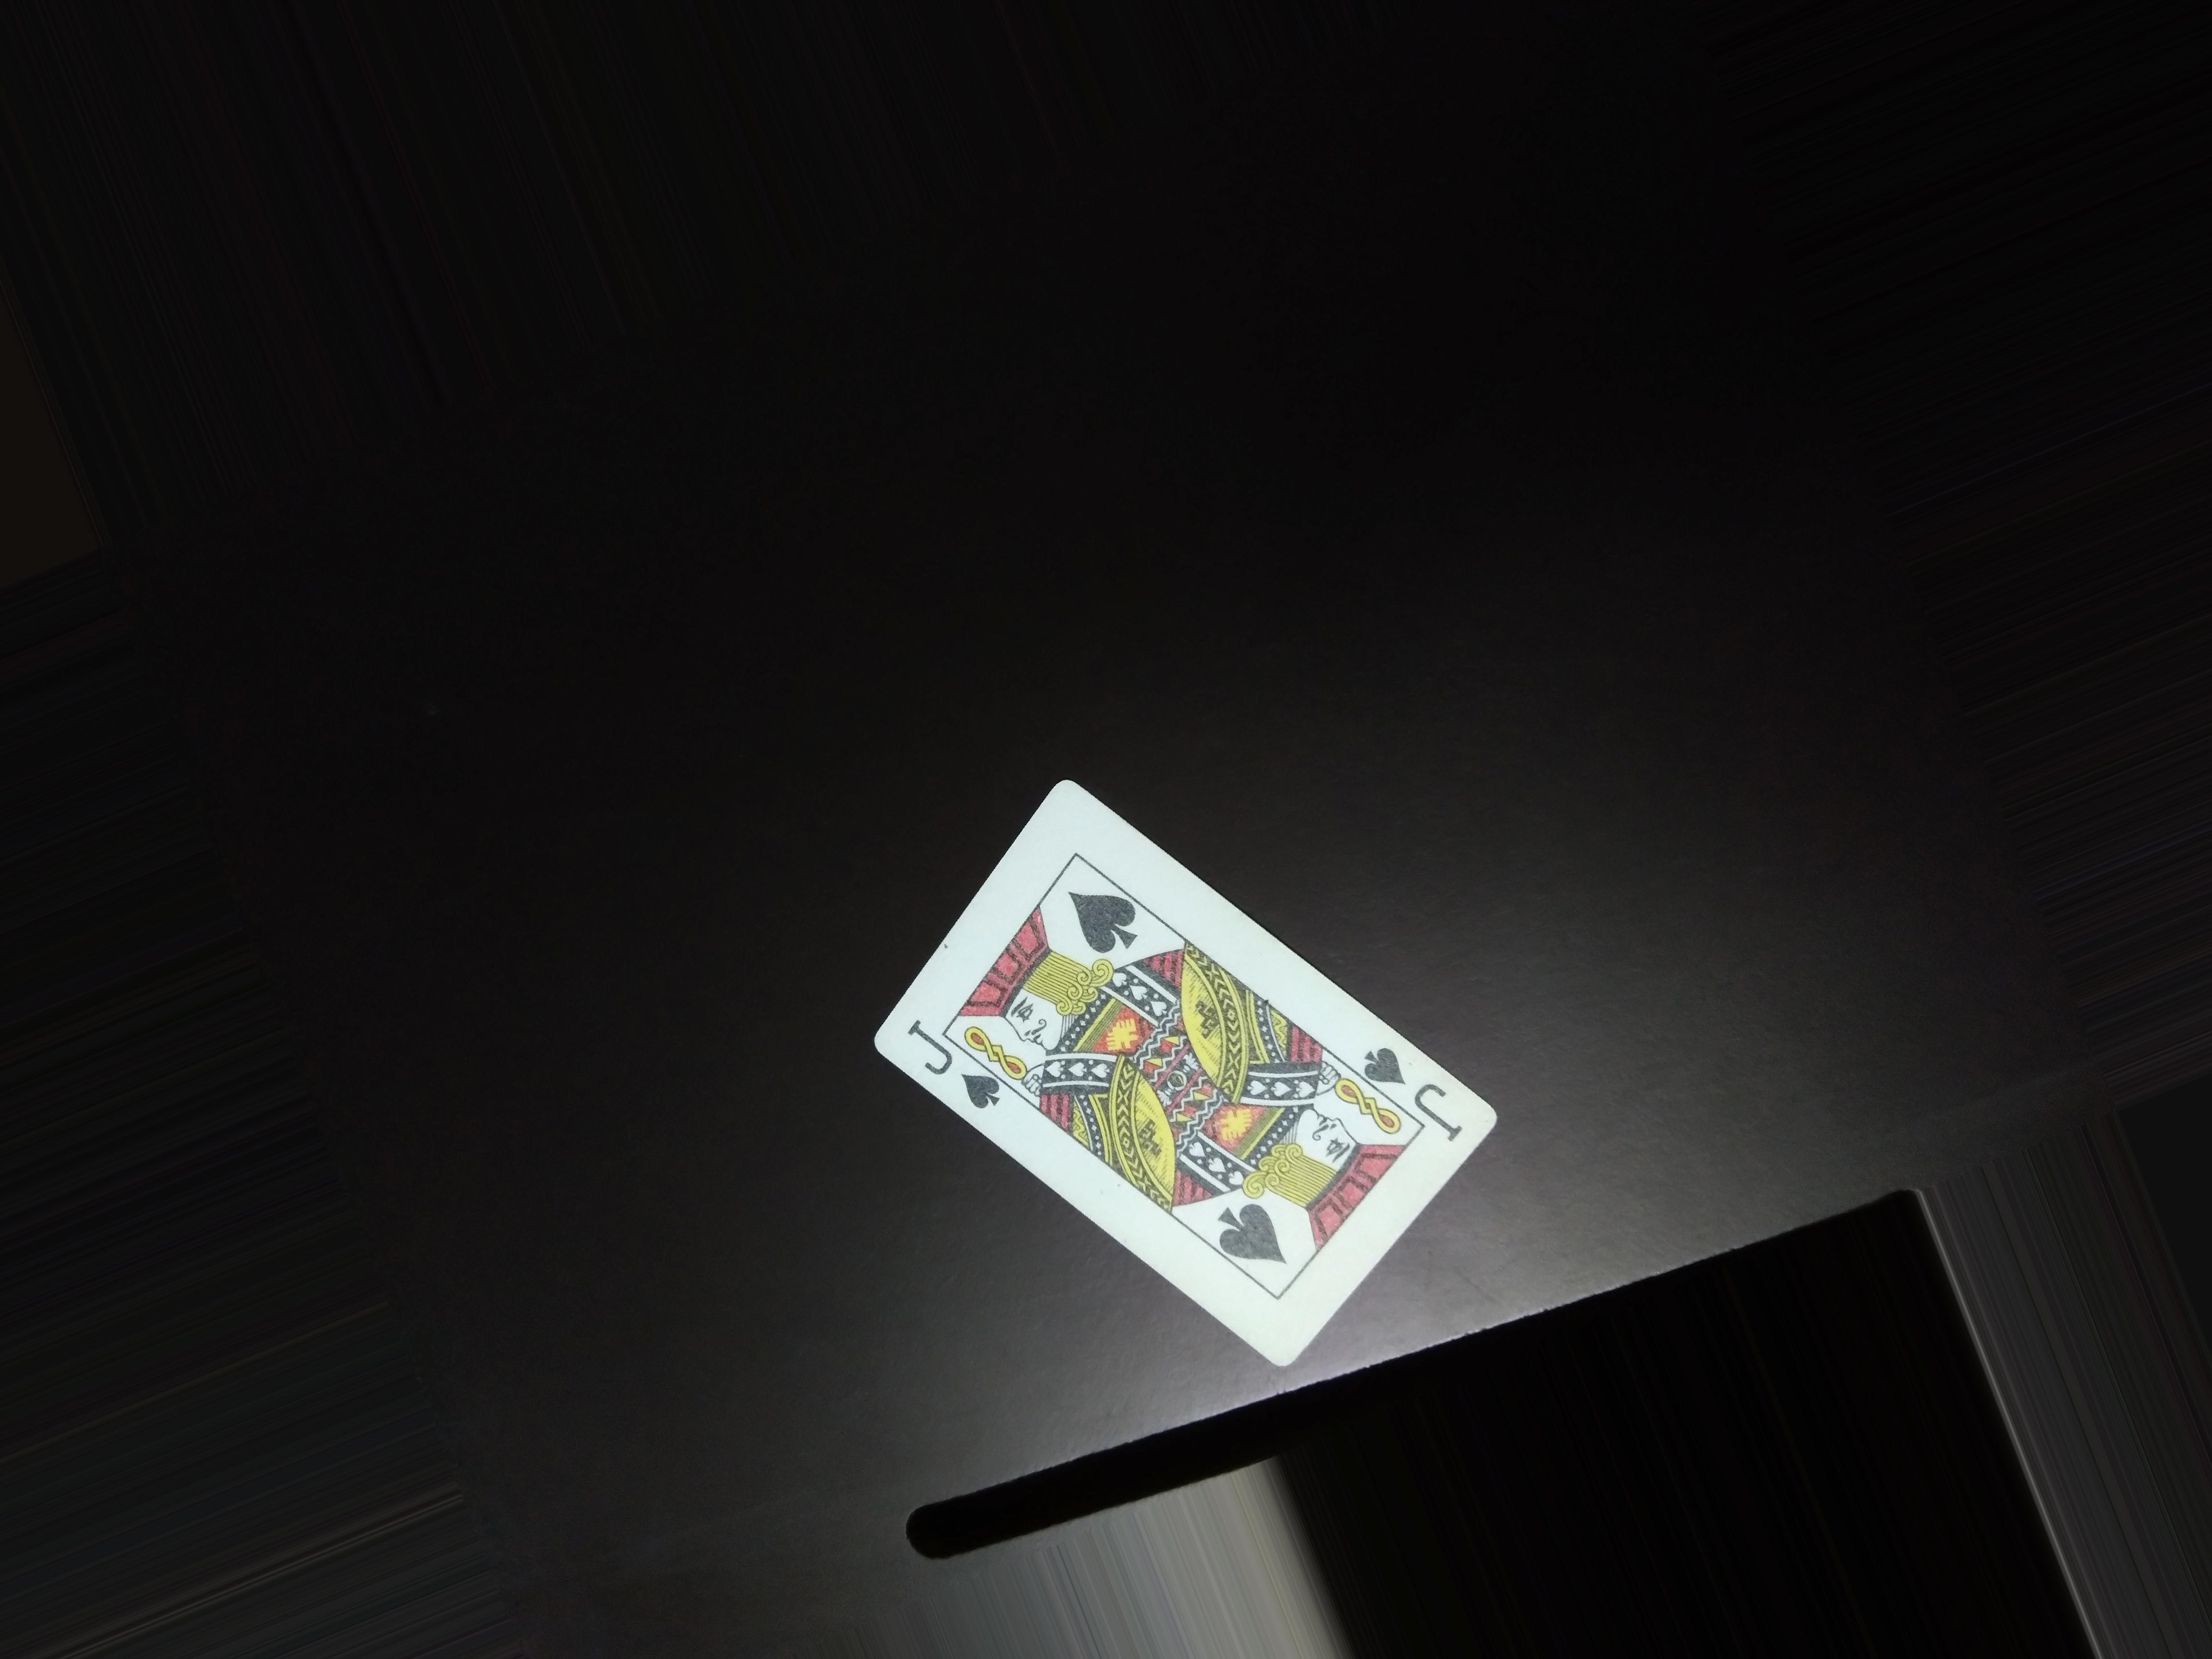JS: (876, 1009, 1005, 1121)
